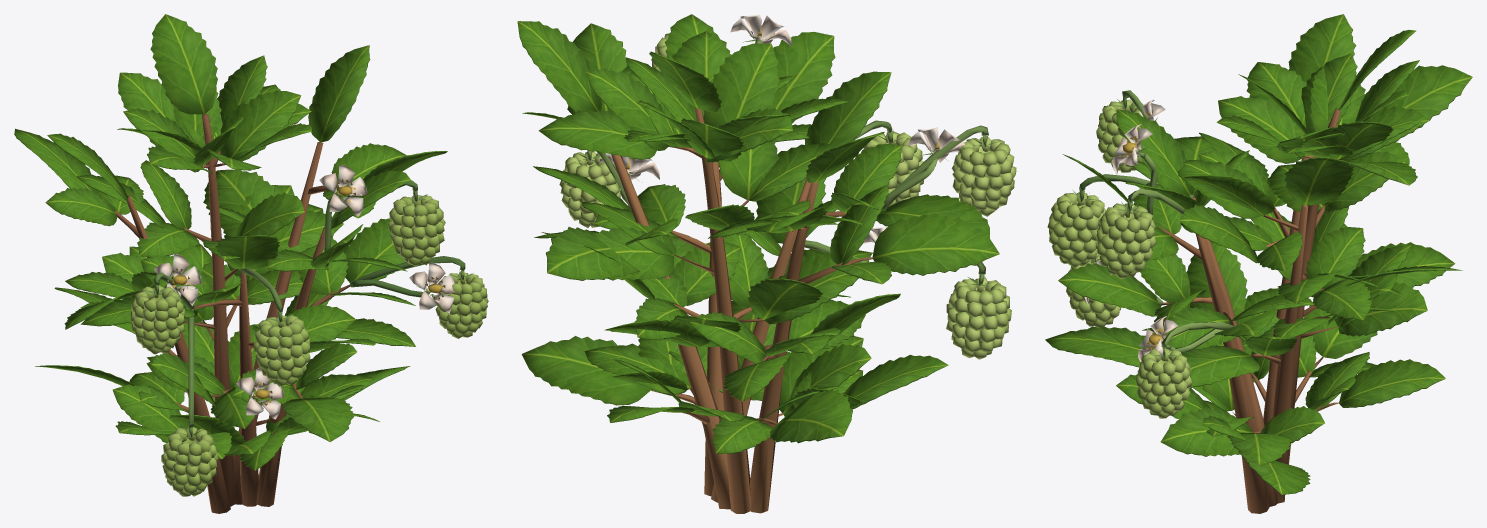
Rendered from NP_Raspberry_Flowering.fbx.
The picture shows the model from 3 angles, left to right: view 1: azimuth 30°, elevation 25°; view 2: azimuth 150°, elevation 25°; view 3: azimuth 270°, elevation 25°; orthographic projection. The views are drawn at different scales.
Parts seen in each view (by area): view 1: NP_Raspberry_Flowering; view 2: NP_Raspberry_Flowering; view 3: NP_Raspberry_Flowering.
Boxes of the visible parts, x1=… form: NP_Raspberry_Flowering: x1=14, y1=14, x2=488, y2=513; NP_Raspberry_Flowering: x1=517, y1=14, x2=1016, y2=513; NP_Raspberry_Flowering: x1=1045, y1=14, x2=1472, y2=513.
Size of the model in its own units: 76.04 by 80.54 by 66.89.
